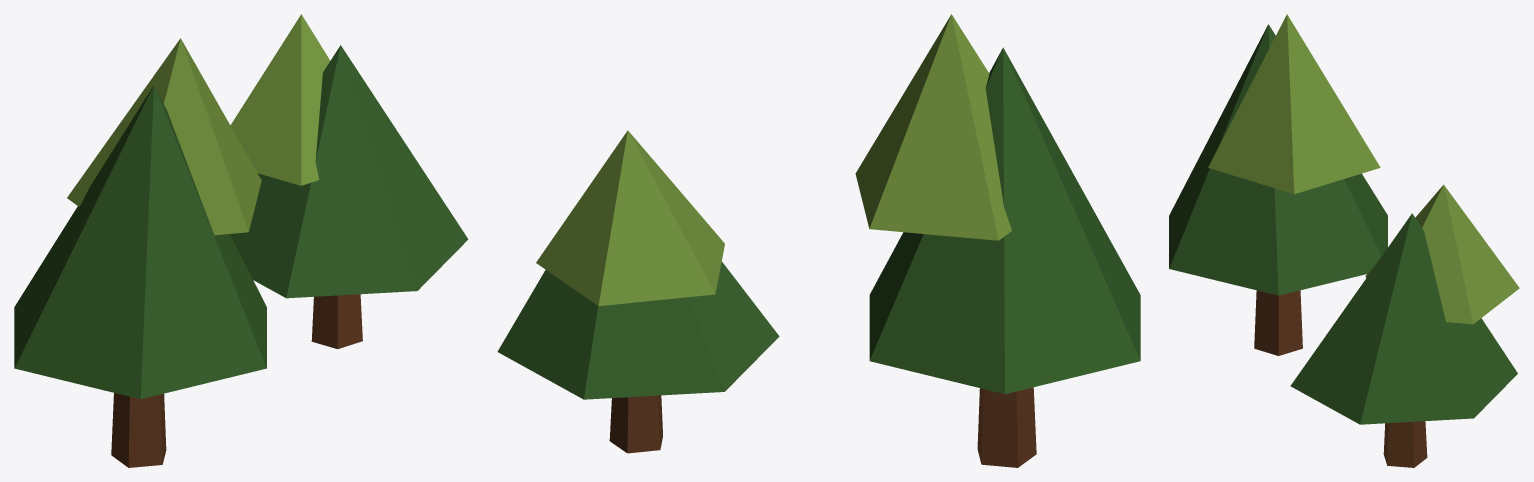
File: TreePair.fbx
3 views of the same model, side by side, from view 1: azimuth 30°, elevation 25°; view 2: azimuth 150°, elevation 25°; view 3: azimuth 270°, elevation 25° (orthographic). The views are drawn at different scales.
Parts seen in each view (by area): view 1: TreePair; view 2: TreePair; view 3: TreePair.
Boxes of the visible parts, x1,y1,x2,y2 form: TreePair: (14, 14, 468, 467); TreePair: (497, 14, 1140, 467); TreePair: (1169, 14, 1519, 467).
Bounding box in the file's own units: 83.85 × 64.6 × 58.62.
